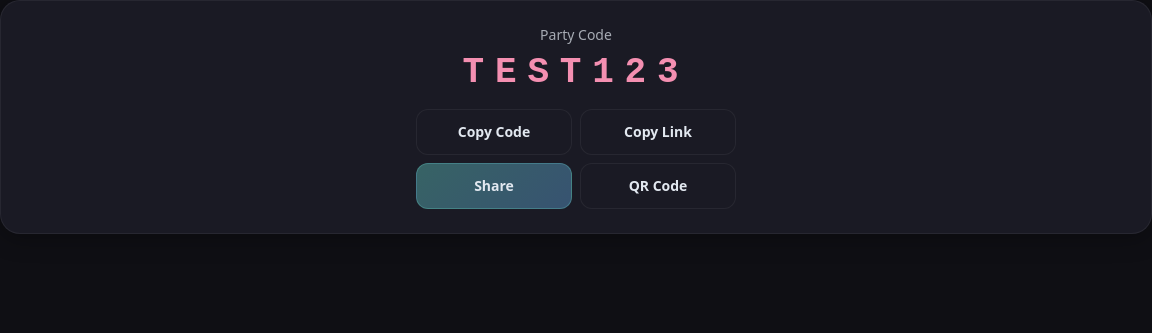
it: PartyCode Component › Error Handling › shows manual link fallback when navigator.share fails unexpectedly
Click the button "Share". click: click(494, 186)
box: [416, 163, 572, 209]
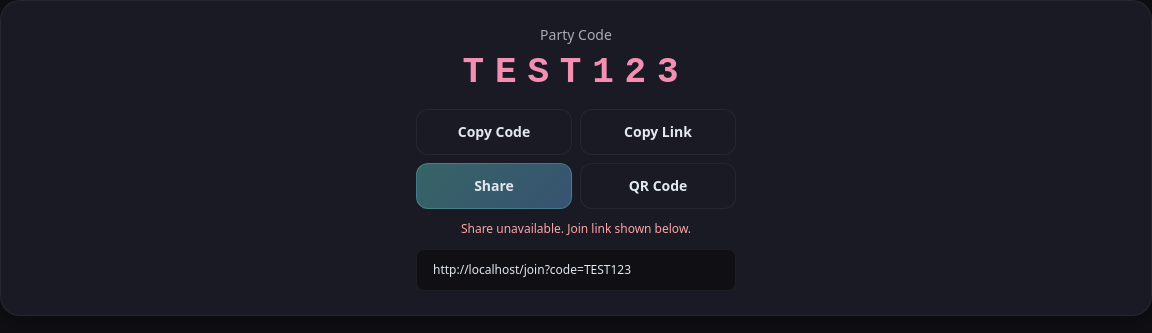
Result: the text "Share unavailable. Join link shown below." is shown at [461, 220, 691, 237]
